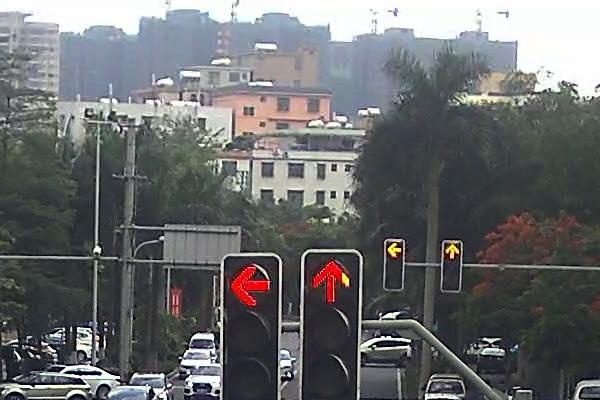redleft: (222, 256, 282, 309), (386, 239, 404, 258)
redstraight: (302, 251, 361, 308), (442, 241, 462, 263)
